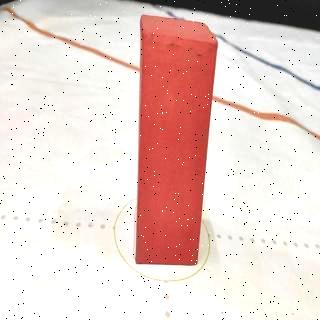redbox: (133, 14, 218, 264)
